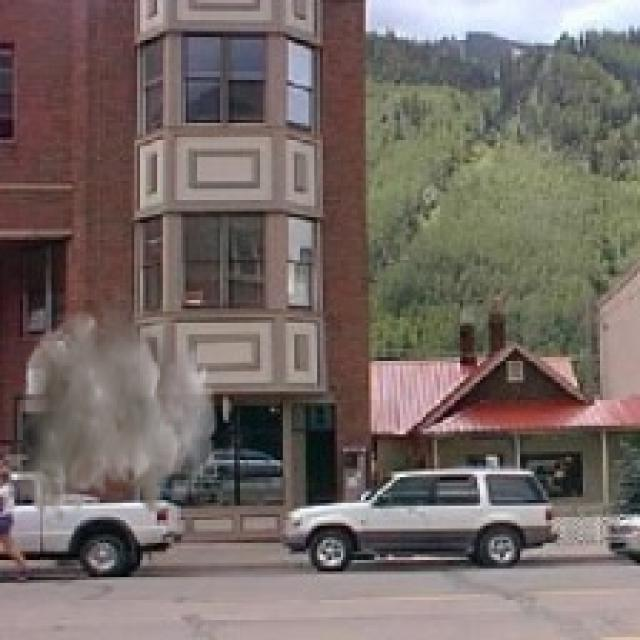smoke: (14, 283, 217, 523)
